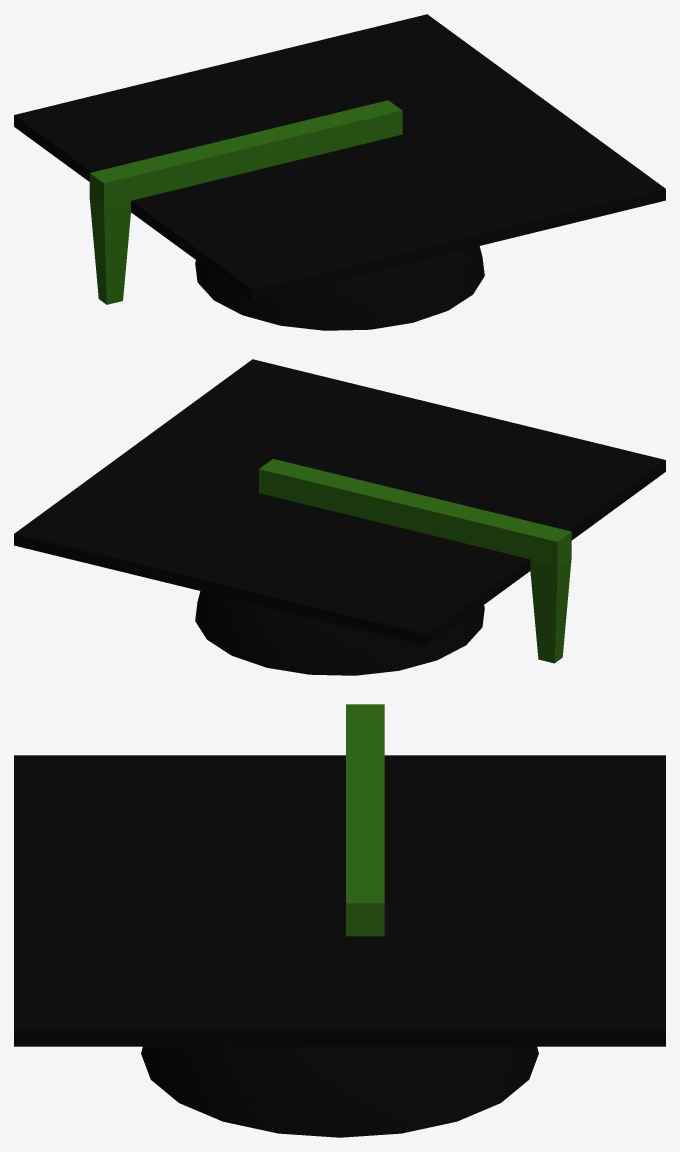
File: gratuation.obj
The picture shows the model from 3 angles, top to bottom: view 1: azimuth 30°, elevation 25°; view 2: azimuth 150°, elevation 25°; view 3: azimuth 270°, elevation 25°; orthographic projection. The views are drawn at different scales.
Visible parts, largest first — view 1: grad_hat, Cube.001; view 2: grad_hat, Cube.001; view 3: grad_hat, Cube.001.
Part boxes in pixels (x1,y1,x2,y2): grad_hat: (14,14,665,330); Cube.001: (89,100,402,304); grad_hat: (14,359,665,675); Cube.001: (259,459,571,663); grad_hat: (14,755,665,1137); Cube.001: (346,704,384,936).
Size of the model in its own units: 1.58 by 0.4867 by 1.49.
